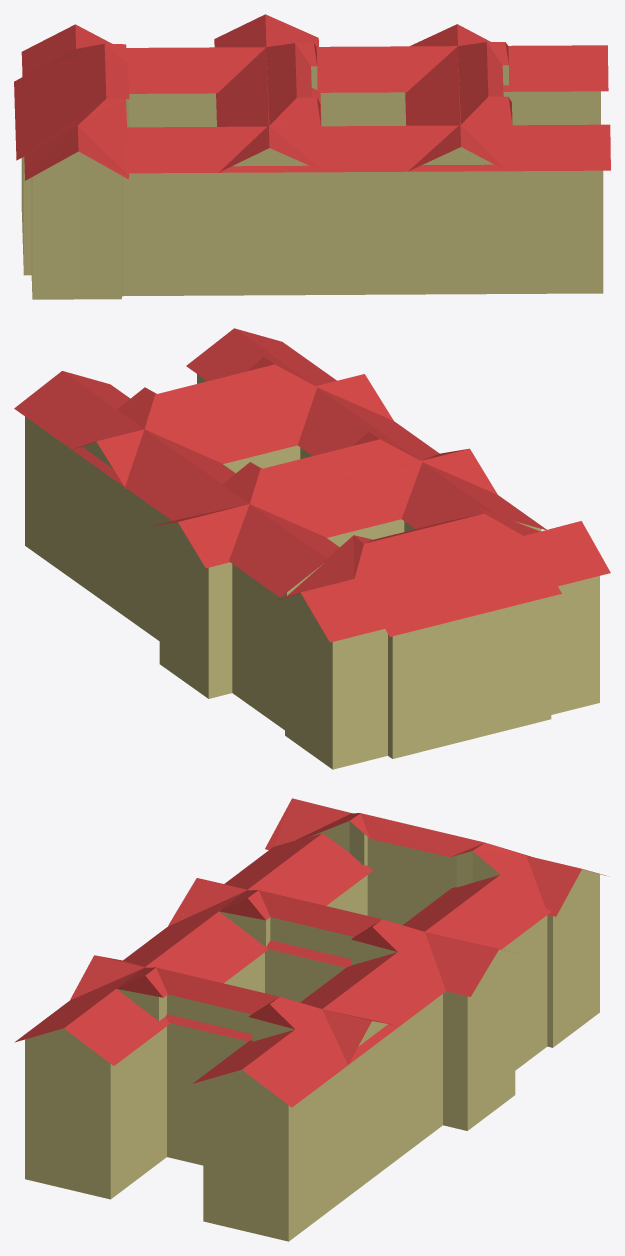
3 renders of one model, top to bottom at view 1: azimuth 30°, elevation 25°; view 2: azimuth 150°, elevation 25°; view 3: azimuth 270°, elevation 25°, orthographic. The views are drawn at different scales.
Visible parts, largest first — view 1: group_27, group_25, group_15, group_13, group_11, group_23, group_9, group_17, group_19, group_7, group_20, group_3 (+3 smaller); view 2: group_13, group_11, group_17, group_15, group_25, group_19, group_23, group_7, group_9, group_3, group_20, group_16 (+1 smaller); view 3: group_17, group_27, group_15, group_25, group_13, group_23, group_5, group_11, group_9, group_20, group_3, group_19 (+4 smaller).
Part boxes in pixels (x1,y1,x2,y2): group_27: [126, 162, 603, 295]; group_25: [126, 124, 610, 173]; group_15: [126, 45, 608, 93]; group_13: [21, 99, 128, 299]; group_11: [14, 24, 129, 180]; group_23: [218, 126, 322, 295]; group_9: [405, 92, 505, 294]; group_17: [128, 91, 600, 127]; group_19: [215, 14, 322, 172]; group_7: [405, 24, 505, 170]; group_20: [266, 43, 320, 126]; group_3: [458, 42, 512, 125]; group_13: [285, 576, 599, 769]; group_11: [276, 506, 610, 642]; group_17: [25, 416, 323, 729]; group_15: [14, 371, 339, 597]; group_25: [186, 328, 546, 529]; group_19: [151, 448, 497, 567]; group_23: [159, 519, 408, 698]; group_7: [75, 375, 382, 488]; group_9: [78, 442, 304, 621]; group_3: [117, 356, 315, 428]; group_20: [222, 431, 420, 503]; group_16: [14, 374, 335, 597]; group_17: [203, 918, 543, 1241]; group_27: [25, 877, 364, 1199]; group_15: [194, 875, 550, 1107]; group_25: [14, 833, 372, 1065]; group_13: [308, 821, 599, 1049]; group_23: [261, 949, 515, 1130]; group_5: [117, 989, 294, 1165]; group_11: [265, 799, 605, 916]; group_9: [341, 1021, 393, 1201]; group_20: [219, 890, 424, 951]; group_3: [116, 967, 321, 1029]; group_19: [179, 879, 505, 996].
Size of the model in its own units: 44.02 by 36.52 by 12.3.
